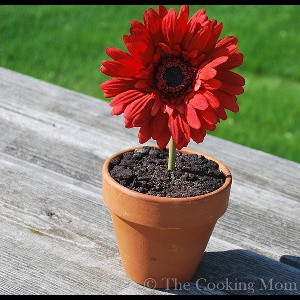flowerpot: (98, 143, 235, 291)
